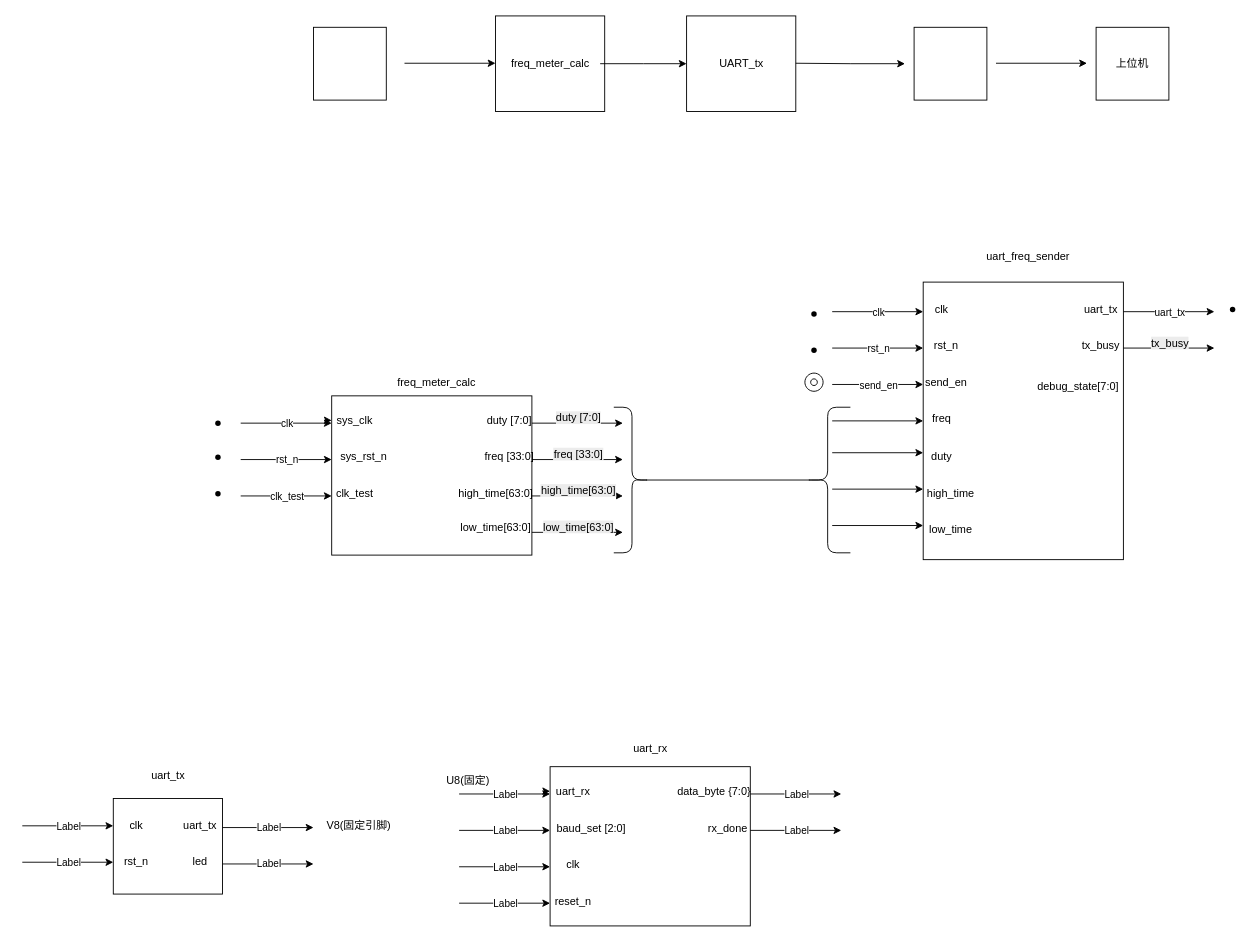
This 1258x942 diagram has some shape labels left out. Here are the shapes that lost their labels. From the top down, the centre of each, then its label:
At (349,63): "待测信号".
At (950,63): "串口_USB芯片".
